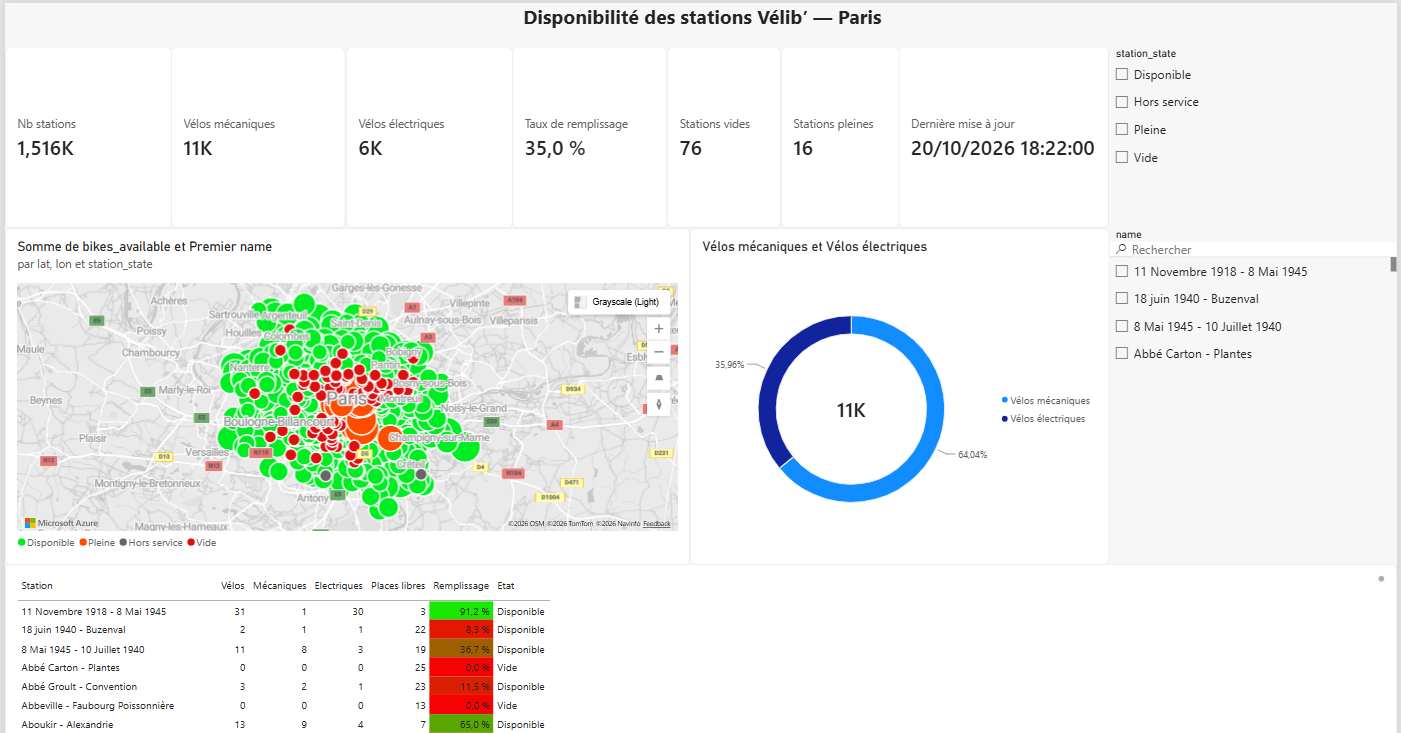

Layout of this report page (visuals, bound fields, positions):
{"tool":"powerbi","page":{"name":"Page 1","canvas":[1920,1080],"ordinal":0},"visuals":[{"type":"cardVisual","fields":{"Data":["v_latest_status.Vélos mécaniques"]},"box":[230,60,240,250],"z":0},{"type":"cardVisual","fields":{"Data":["v_latest_status.Nb stations"]},"box":[0,60,230,250],"z":1000},{"type":"cardVisual","fields":{"Data":["v_latest_status.Vélos électriques"]},"box":[470,60,230,250],"z":2000},{"type":"cardVisual","fields":{"Data":["v_latest_status.Taux de remplissage"]},"box":[700,60,213.3,250],"z":3000},{"type":"cardVisual","fields":{"Data":["v_latest_status.Stations vides"]},"box":[913.3,60,156.7,250],"z":4000},{"type":"cardVisual","fields":{"Data":["v_latest_status.Stations pleines"]},"box":[1070,60,163.3,250],"z":5000},{"type":"cardVisual","fields":{"Data":["v_latest_status.Dernière mise à jour"]},"box":[1233.3,60,290,250],"z":6000},{"type":"azureMap","fields":{"Series":["v_latest_status.station_state"],"Size":["Sum(v_latest_status.bikes_available)"],"X":["v_latest_status.lon"],"Y":["v_latest_status.lat"]},"box":[0,310,945,465],"z":7000},{"type":"donutChart","fields":{"Y":["v_latest_status.Vélos mécaniques","v_latest_status.Vélos électriques"]},"box":[945,310,578.6,464.3],"z":8000},{"type":"tableEx","fields":{"Values":["v_latest_status.name","Sum(v_latest_status.bikes_available)","Sum(v_latest_status.mechanical_bikes)","Sum(v_latest_status.ebikes)","Sum(v_latest_status.docks_available)","Sum(v_latest_status.fill_rate)","v_latest_status.station_state"]},"box":[0,775,1920,295],"z":9000},{"type":"slicer","fields":{"Values":["v_latest_status.station_state"]},"box":[1523.3,60,396.7,250],"z":10000},{"type":"slicer","fields":{"Values":["v_latest_status.name"]},"box":[1525,310,395,181.7],"z":11000},{"type":"textbox","box":[0,0,1916.7,60],"z":12000}]}

Visuals, with their boxes on the page's 1920x1080 design canvas (x1, y1, x2, y2). These are canvas units, not pixel positions in the 1401x733 screenshot, which may show the page scaled, cropped or inside an application window:
cardVisual - v_latest_status.Vélos mécaniques: box=[230, 60, 470, 310]
cardVisual - v_latest_status.Nb stations: box=[0, 60, 230, 310]
cardVisual - v_latest_status.Vélos électriques: box=[470, 60, 700, 310]
cardVisual - v_latest_status.Taux de remplissage: box=[700, 60, 913, 310]
cardVisual - v_latest_status.Stations vides: box=[913, 60, 1070, 310]
cardVisual - v_latest_status.Stations pleines: box=[1070, 60, 1233, 310]
cardVisual - v_latest_status.Dernière mise à jour: box=[1233, 60, 1523, 310]
azureMap - v_latest_status.station_state x Sum(v_latest_status.bikes_available): box=[0, 310, 945, 775]
donutChart - v_latest_status.Vélos mécaniques x v_latest_status.Vélos électriques: box=[945, 310, 1524, 774]
tableEx - v_latest_status.name x Sum(v_latest_status.bikes_available): box=[0, 775, 1920, 1070]
slicer - v_latest_status.station_state: box=[1523, 60, 1920, 310]
slicer - v_latest_status.name: box=[1525, 310, 1920, 492]
textbox: box=[0, 0, 1917, 60]
